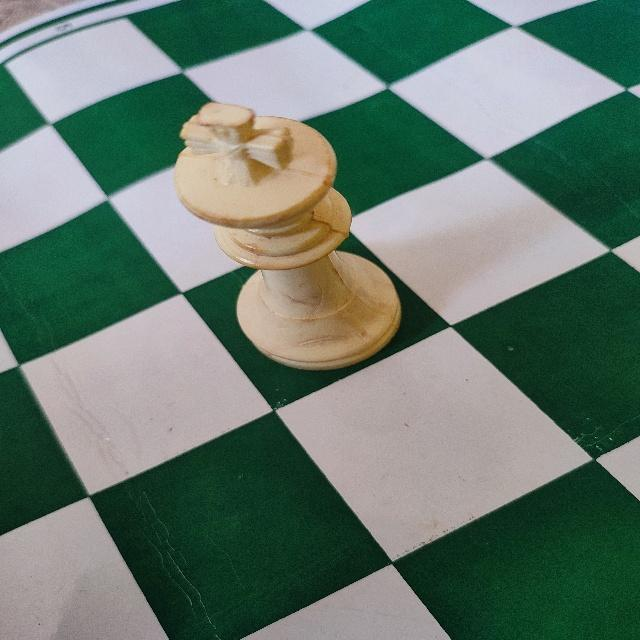King: (168, 97, 405, 377)
